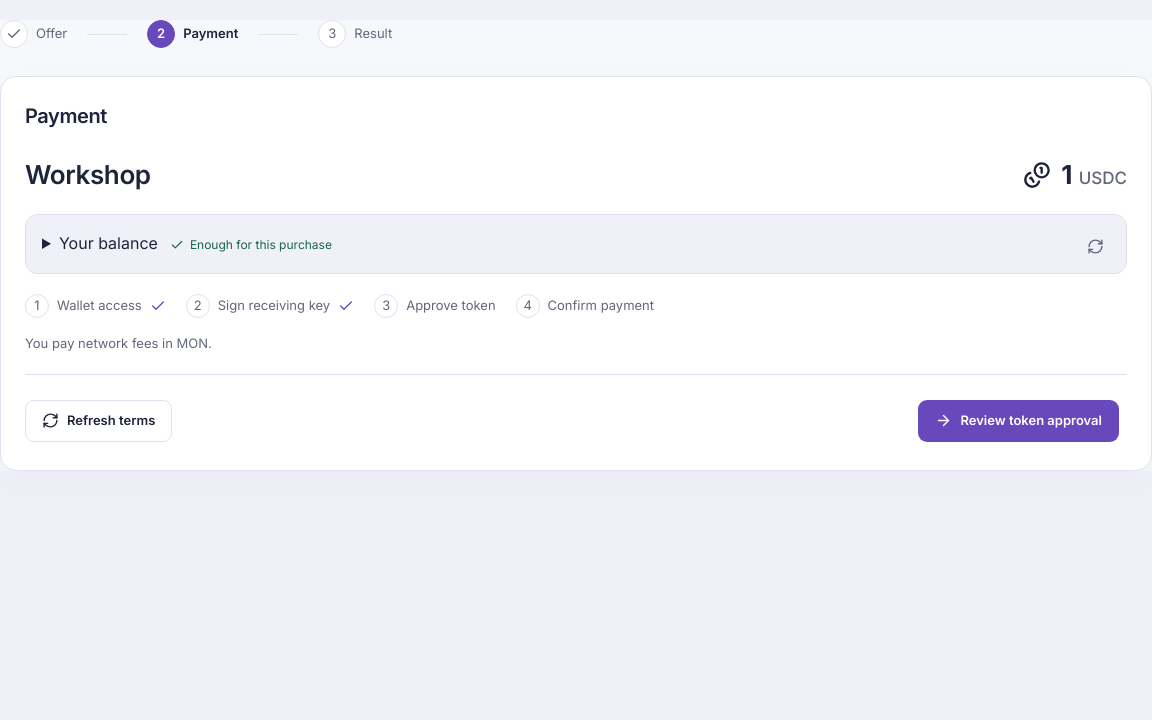
Test: restores the saved self-payment choice on reopening a checkout
This screenshot has width=1152, height=720.
Expected: the button "Review token approval" is shown, [918,400,1119,442]
What coordinates should you click on to do the following:
click the text "Your balance"
I would click on:
 (108, 243)
Its box is [59,233,158,253].
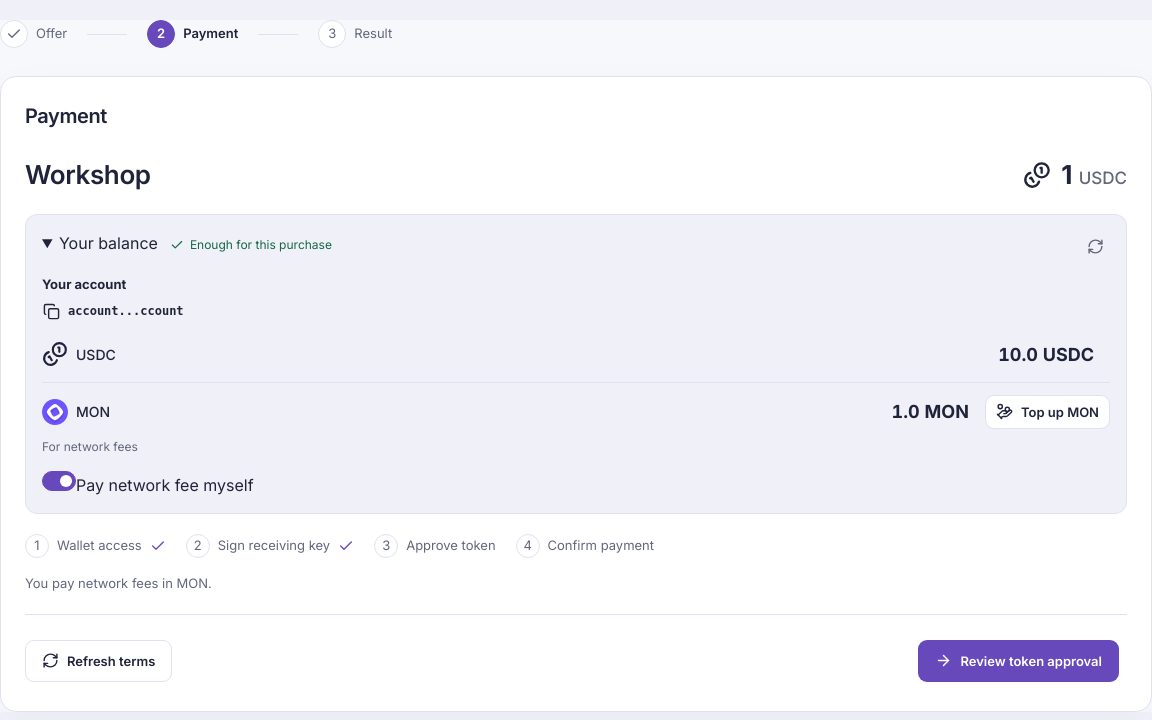
Expected: the switch labelled "Pay network fee myself" is checked, [42,471,76,491]
